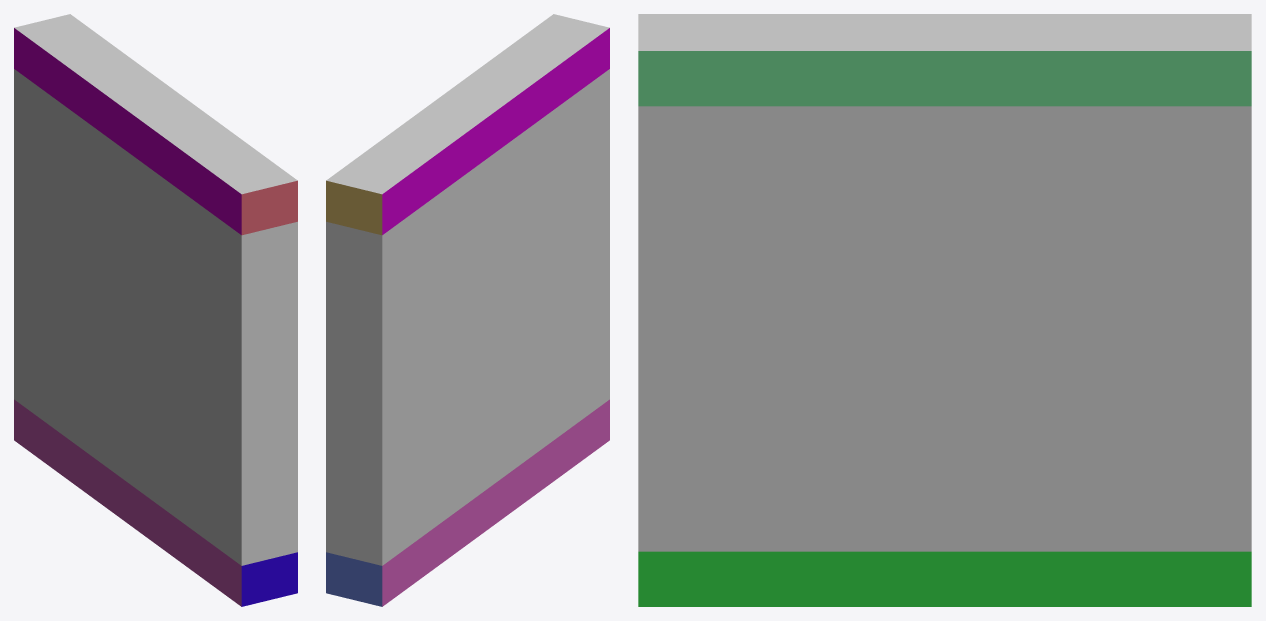
Rendered from DH_Wall-Tapered_Origin.fbx.
3 views of the same model, side by side, from view 1: azimuth 30°, elevation 25°; view 2: azimuth 150°, elevation 25°; view 3: azimuth 270°, elevation 25° (orthographic). The views are drawn at different scales.
Visible parts, largest first — view 1: Cube; view 2: Cube; view 3: Cube.
Part boxes in pixels (x1,y1,x2,y2): Cube: (14, 14, 297, 606); Cube: (326, 14, 609, 606); Cube: (638, 14, 1251, 606).
Size of the model in its own units: 200 by 1401 by 1401.
